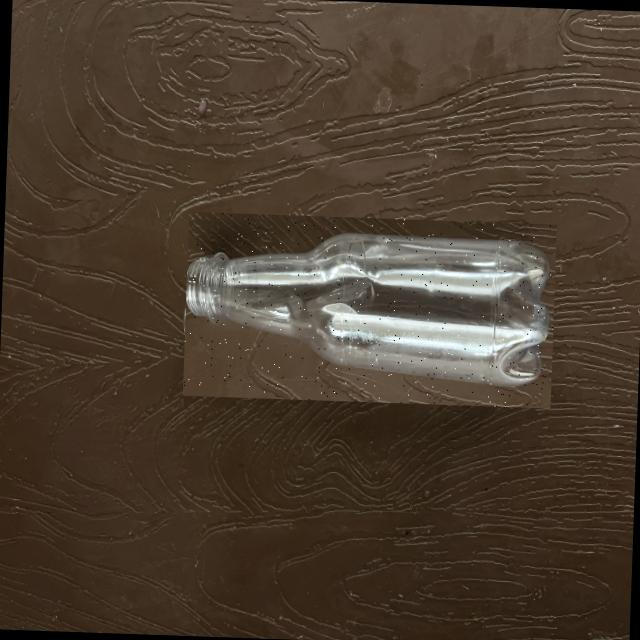PET_ClearBottle: (182, 211, 556, 408)
